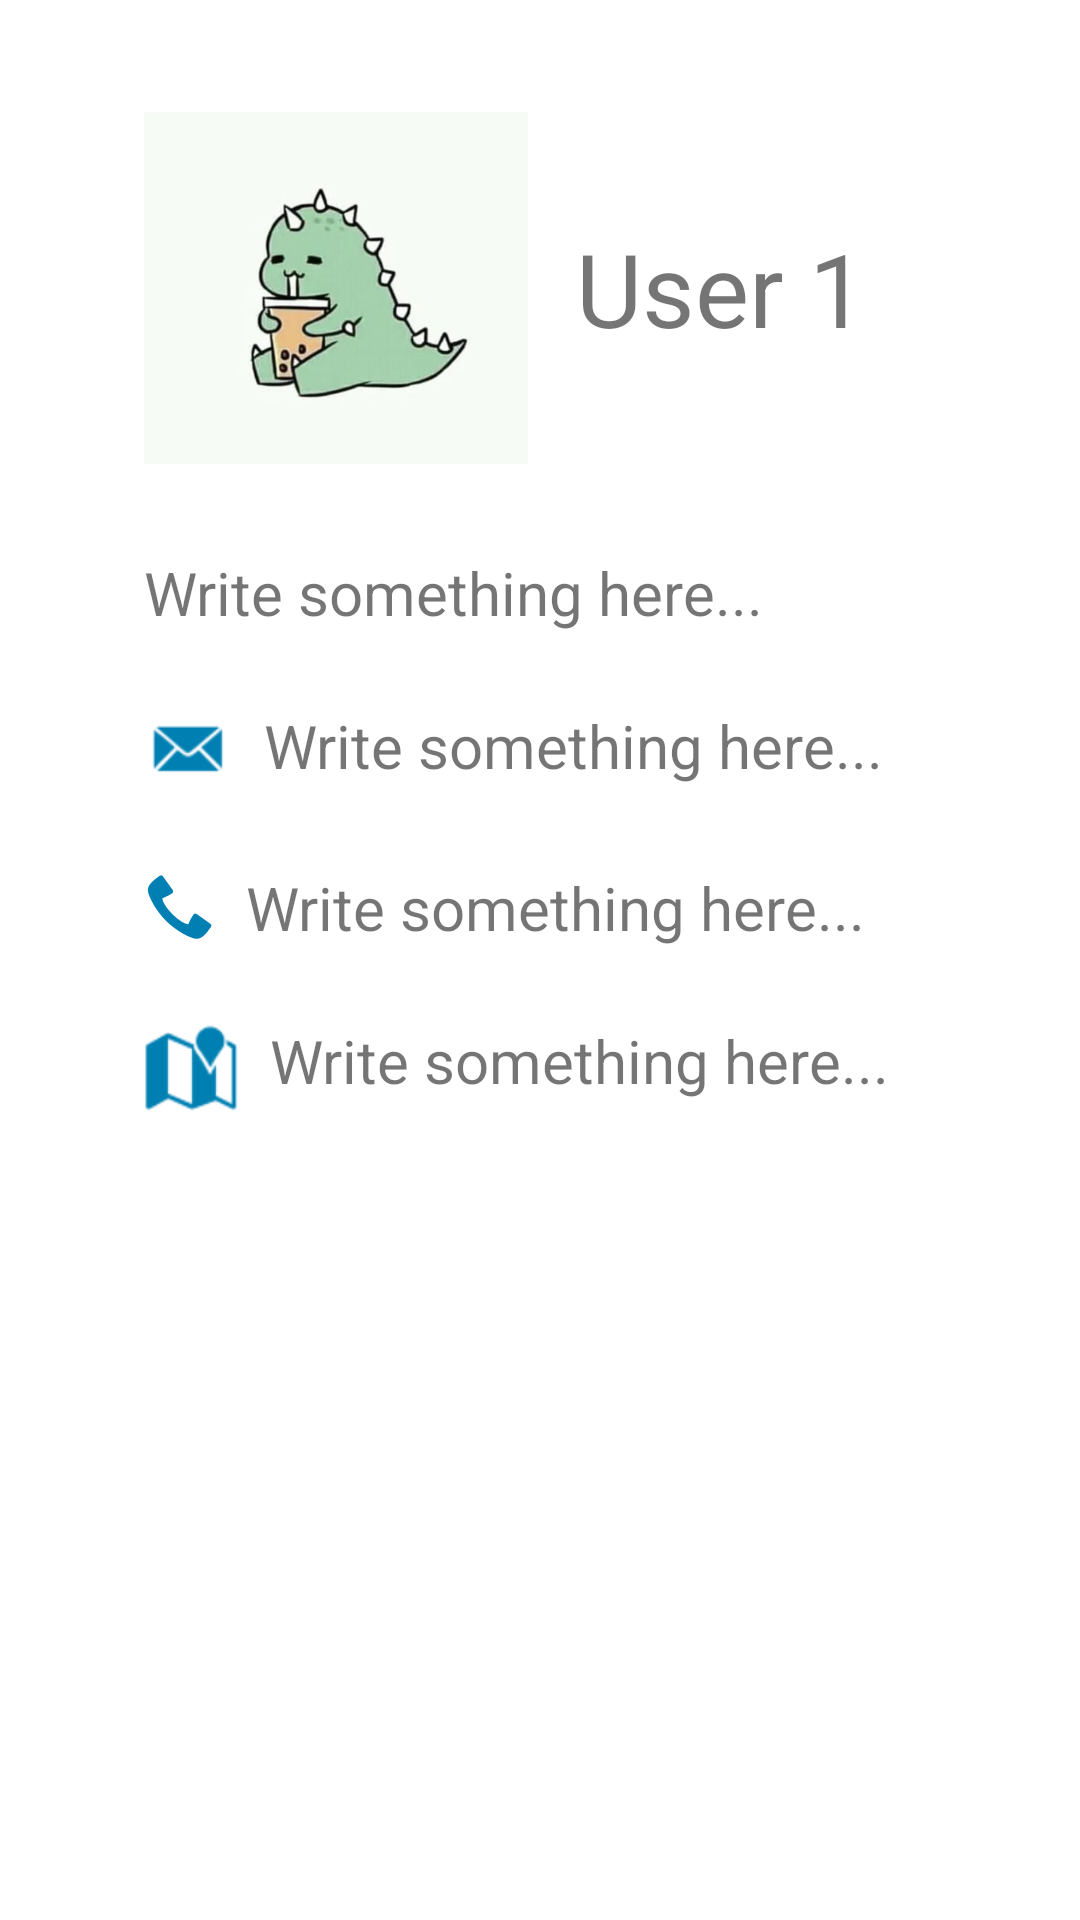

Where to tap for icons on this 1080x1920 app screen, as (x,y):
Profile picture: (359,293)
